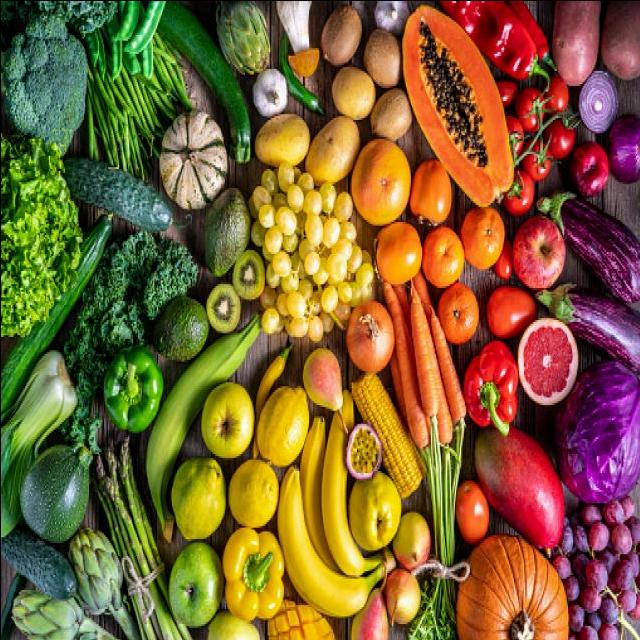bell_pepper: (222, 526, 284, 620), (463, 343, 519, 435), (105, 352, 165, 437)
cabbage: (552, 364, 640, 506)
cucumber: (2, 208, 113, 431), (152, 1, 254, 167), (63, 159, 174, 225), (1, 539, 77, 602)
eggplant: (537, 190, 640, 305), (537, 283, 640, 375)
garlic: (253, 67, 290, 120)
onion: (348, 299, 396, 375), (579, 69, 617, 135), (605, 115, 640, 186)
potato: (305, 126, 358, 186), (253, 114, 309, 165), (332, 69, 374, 120)
tomato: (489, 286, 538, 339), (454, 481, 489, 541), (503, 170, 535, 214), (517, 91, 546, 135), (544, 120, 574, 160), (522, 142, 554, 178), (502, 118, 522, 158), (544, 82, 569, 114)
